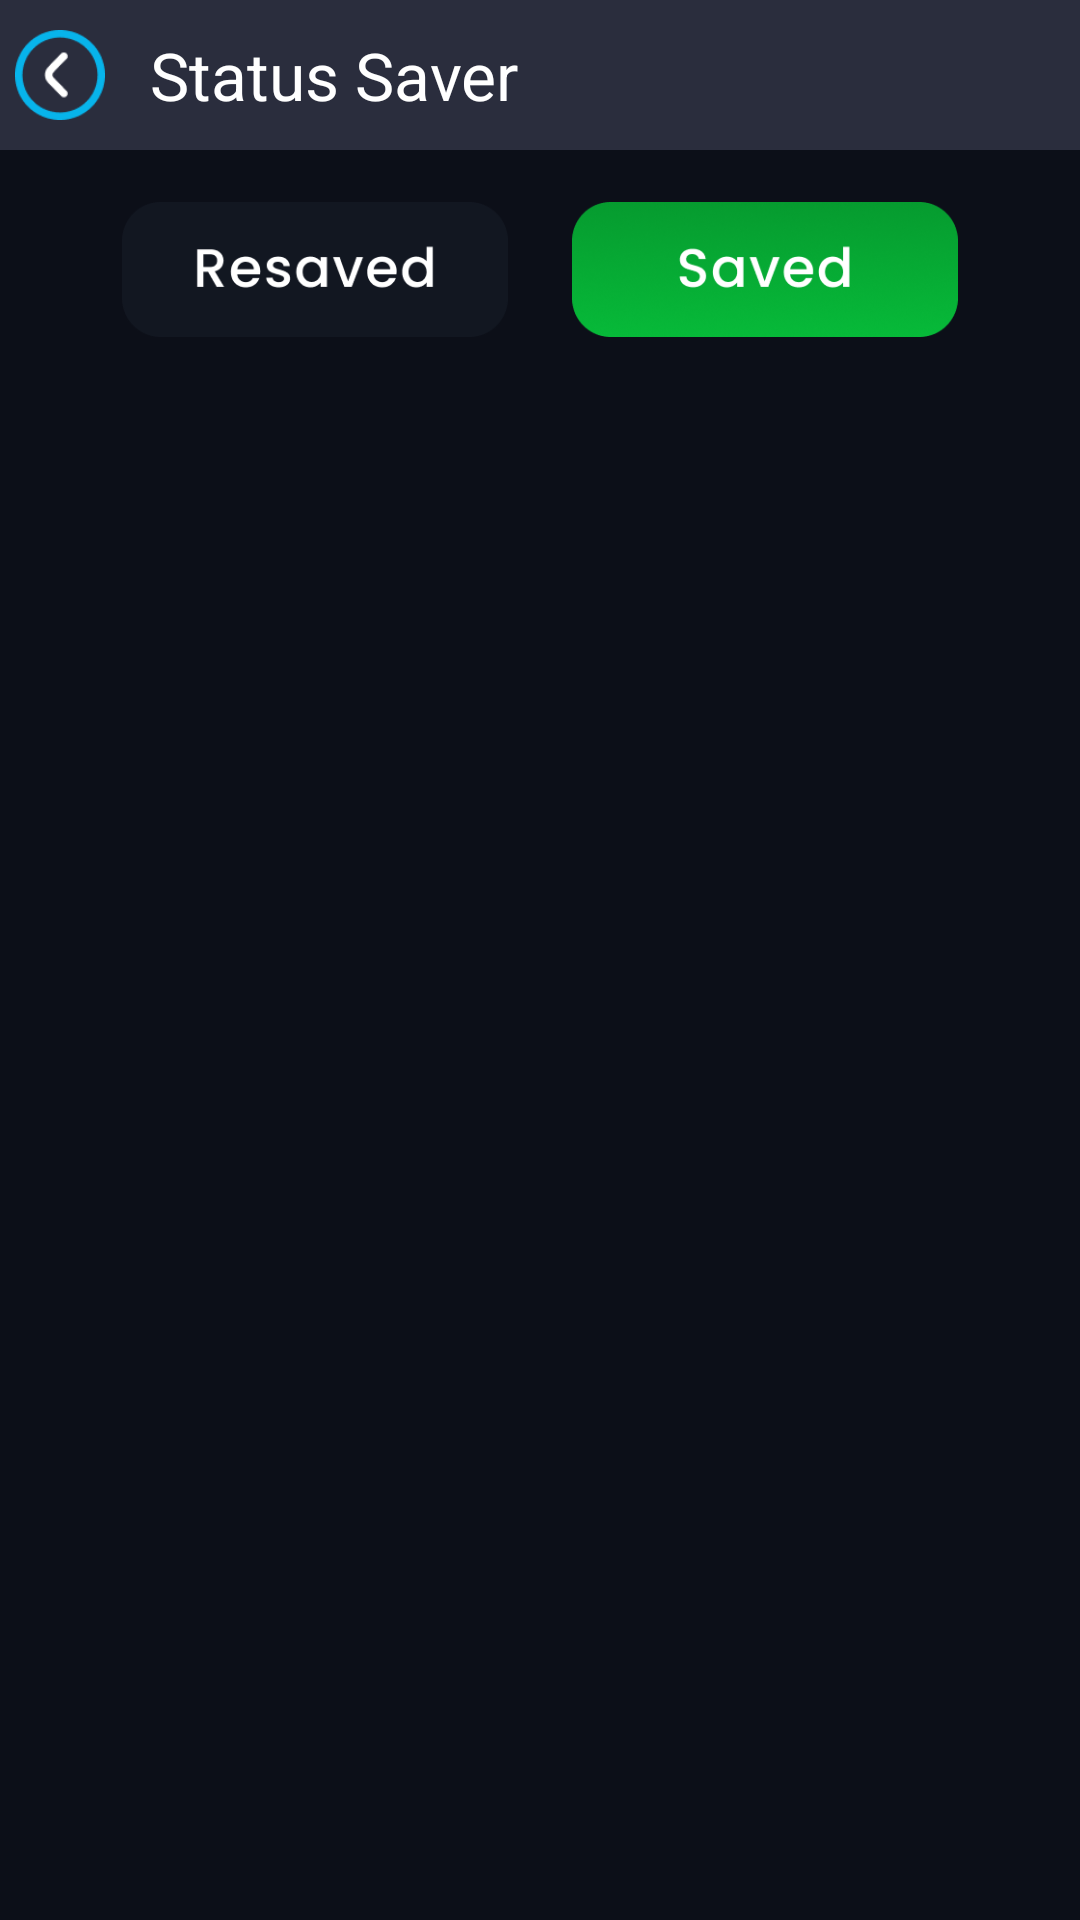

Where to tap for icons on this 1080 x 1920 app screen, as [x,y]:
backbutton: [60,75]
